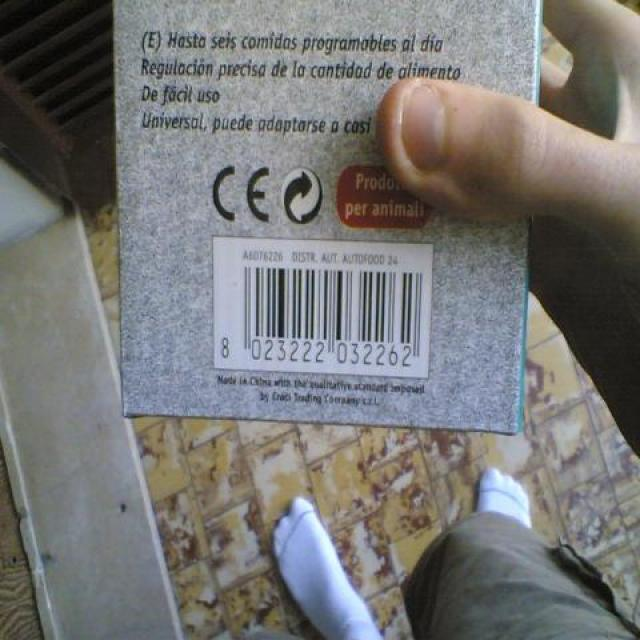Barcode: (212, 236, 435, 380)
